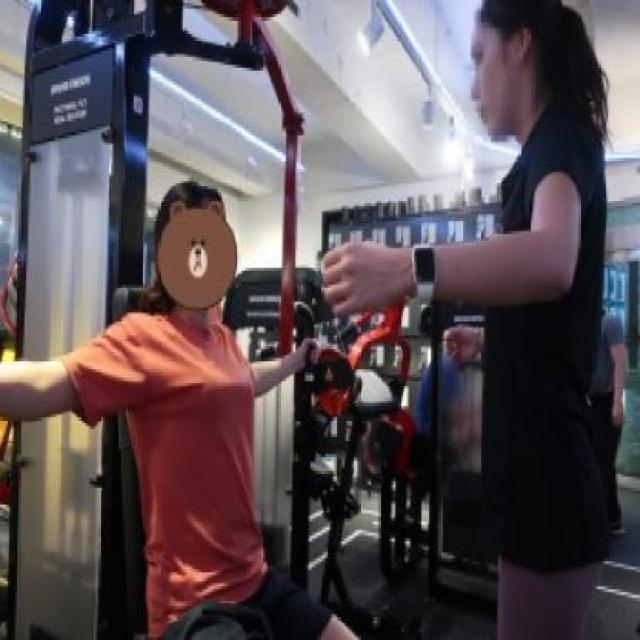chest fly machine: (0, 0, 402, 640)
